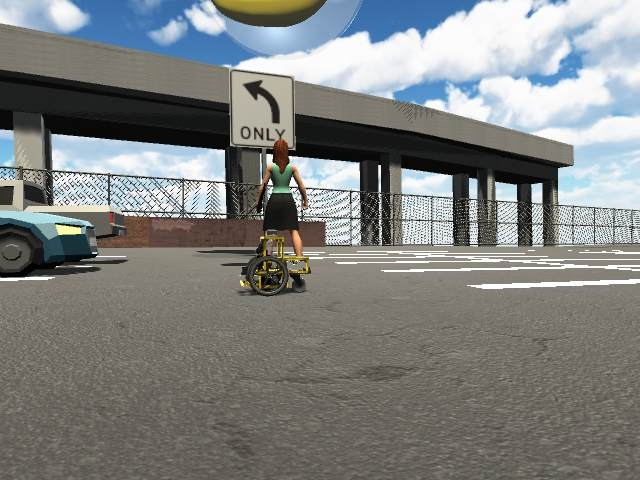arrow_left: (241, 77, 282, 123)
